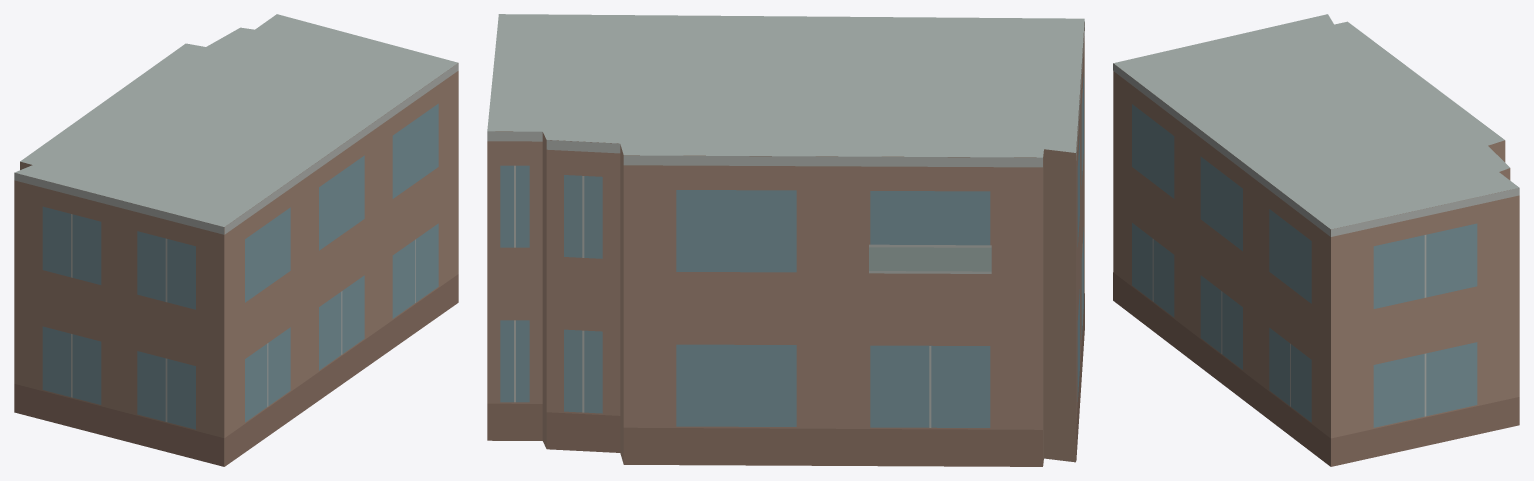
Rendered from survey-upis-32619484.glb.
3 views of the same model, side by side, from view 1: azimuth 30°, elevation 25°; view 2: azimuth 150°, elevation 25°; view 3: azimuth 270°, elevation 25° (orthographic). The views are drawn at different scales.
Visible parts, largest first — view 1: survey-upis-32619484.tmp; view 2: survey-upis-32619484.tmp; view 3: survey-upis-32619484.tmp.
Boxes of the visible parts, box(x1,y1,x2,y2) form: survey-upis-32619484.tmp: box(14, 14, 458, 466); survey-upis-32619484.tmp: box(487, 14, 1084, 466); survey-upis-32619484.tmp: box(1113, 14, 1519, 466).
Size of the model in its own units: 14.8 by 7.6 by 11.8.
